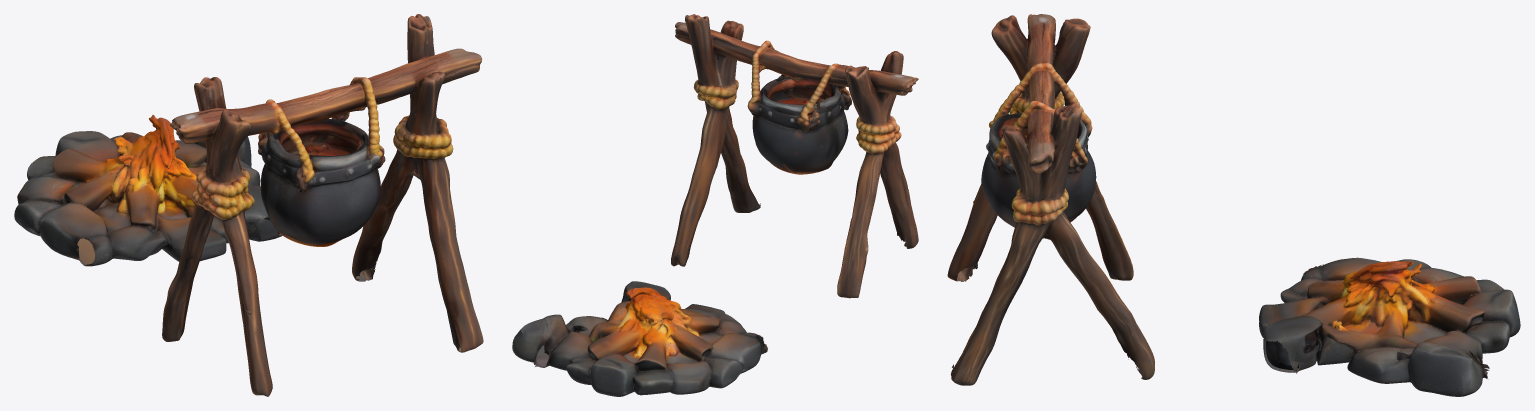
File: Campfire_CookingStand.fbx
3 renders of one model, left to right at view 1: azimuth 30°, elevation 25°; view 2: azimuth 150°, elevation 25°; view 3: azimuth 270°, elevation 25°, orthographic. The views are drawn at different scales.
Visible parts, largest first — view 1: Cooking_Stand, Campfire; view 2: Cooking_Stand, Campfire; view 3: Cooking_Stand, Campfire.
Part boxes in pixels (x1,y1,x2,y2): Cooking_Stand: [162, 14, 483, 396]; Campfire: [14, 115, 282, 266]; Cooking_Stand: [671, 14, 918, 298]; Campfire: [512, 281, 767, 396]; Cooking_Stand: [947, 14, 1154, 385]; Campfire: [1259, 257, 1520, 396].
Size of the model in its own units: 200 by 183 by 336.
